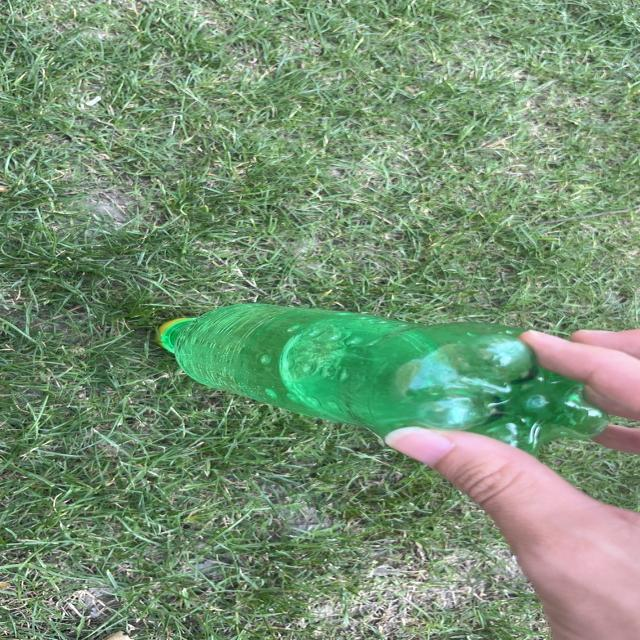medium: (158, 303, 608, 451)
